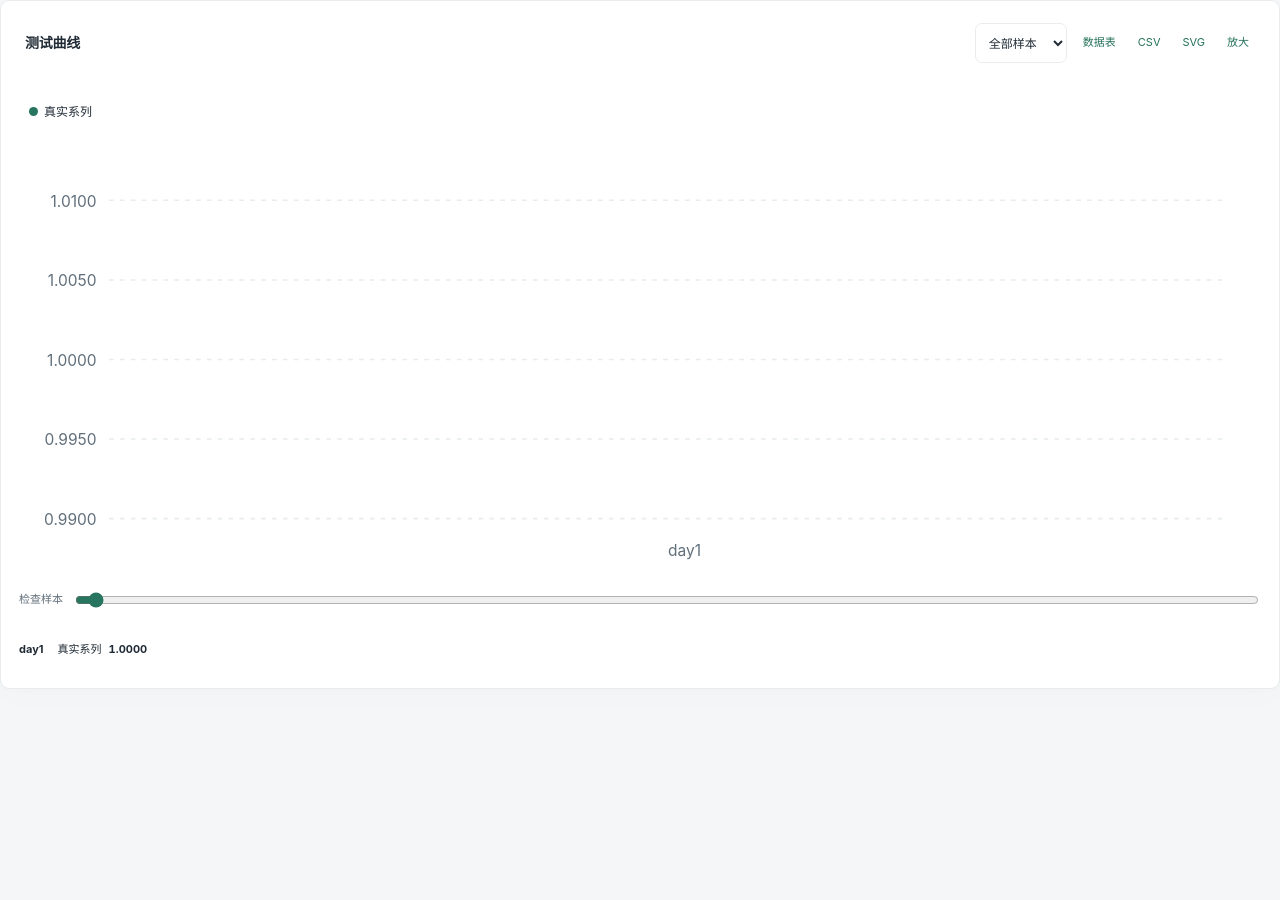
returns from expanded chart with Escape
The image size is (1280, 900).
Click the button with aria-label "放大测试曲线".
click(1238, 43)  # box [1221, 27, 1255, 59]
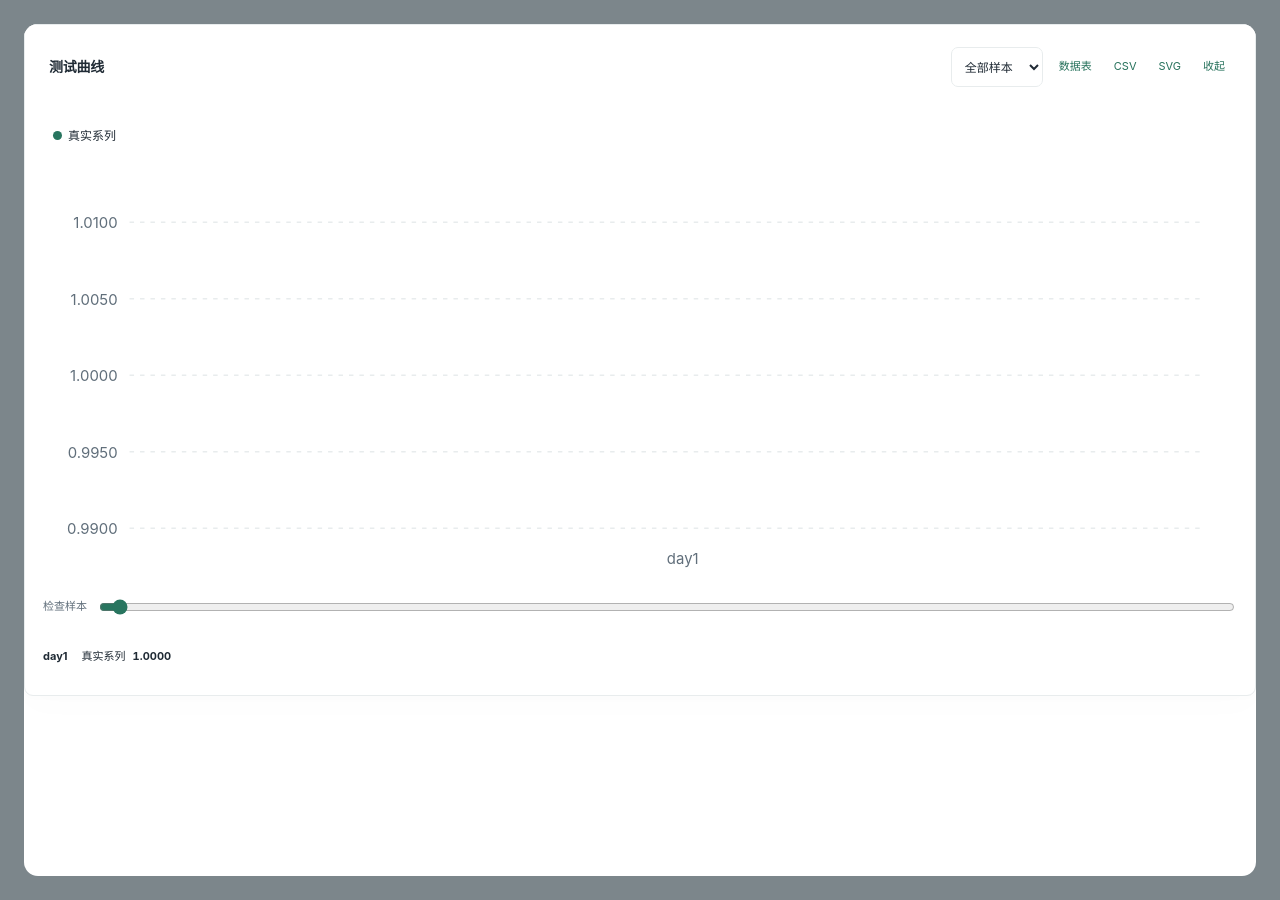
Press Escape in the button with aria-label "收起测试曲线", box [1197, 51, 1231, 83]
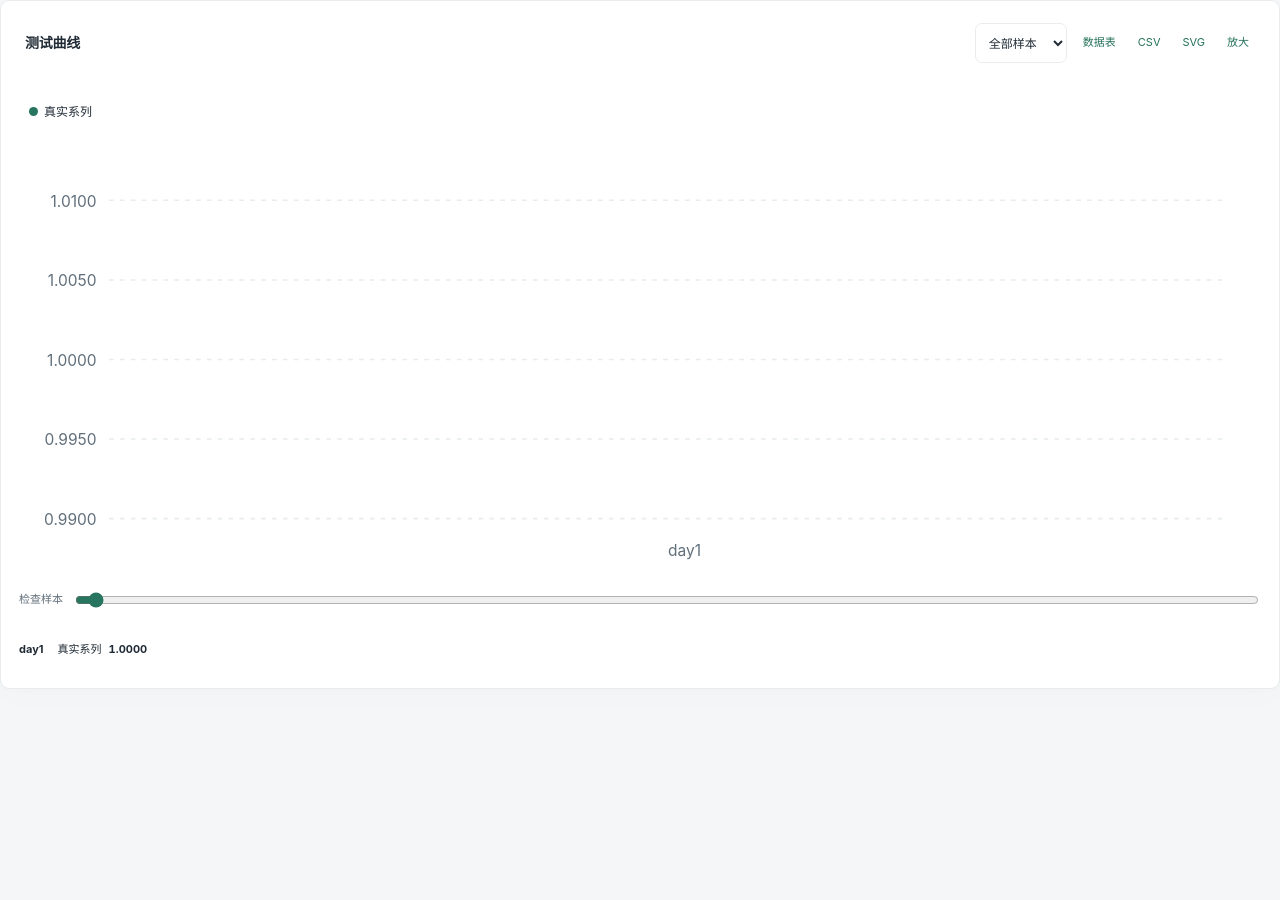
Check: the button with aria-label "放大测试曲线" is shown, box [1221, 27, 1255, 59]
